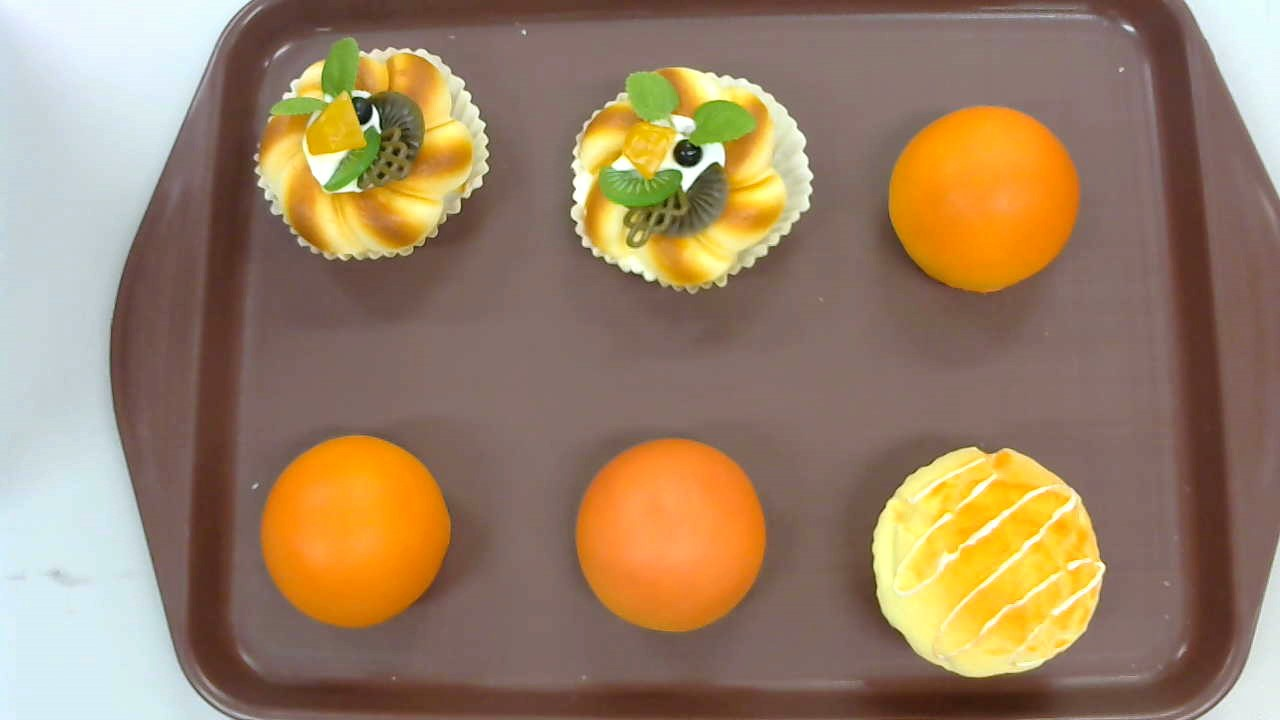bun: (575, 437, 766, 631), (259, 435, 450, 628), (888, 106, 1080, 294)
cupcake: (872, 446, 1106, 678)
fruit tart: (570, 67, 813, 293), (253, 36, 490, 260)
